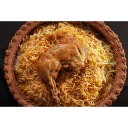briyani: (24, 31, 108, 102)
